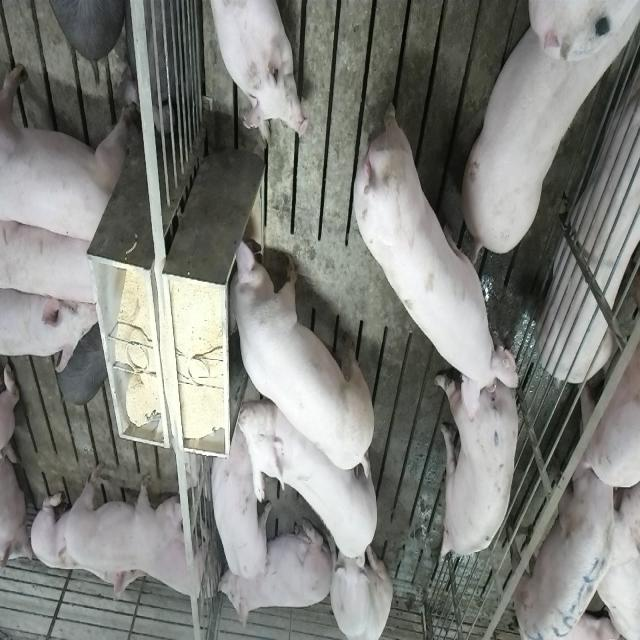Feeding: (219, 233, 371, 478)
Sitting: (328, 532, 392, 640)
Standing: (348, 91, 514, 402), (458, 8, 634, 264), (240, 383, 384, 561), (2, 57, 134, 249), (514, 435, 621, 640), (434, 362, 522, 566), (59, 462, 190, 574), (3, 213, 105, 310), (208, 428, 268, 580), (0, 286, 102, 372)
Sternal_lying: (540, 44, 640, 392), (204, 0, 306, 142), (32, 484, 142, 610), (217, 516, 329, 629), (140, 522, 212, 606)
